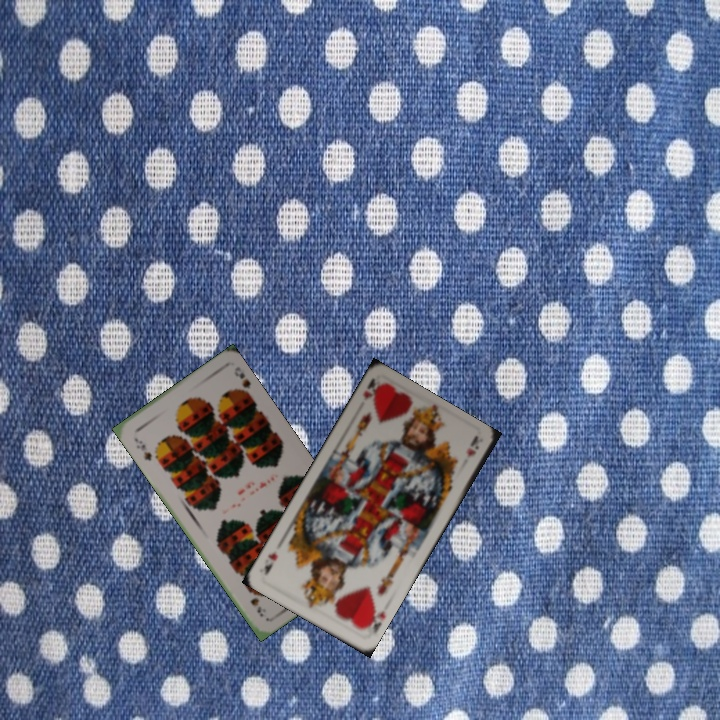HK: (358, 601, 388, 636), (359, 375, 384, 404)
S9: (130, 433, 154, 463)
